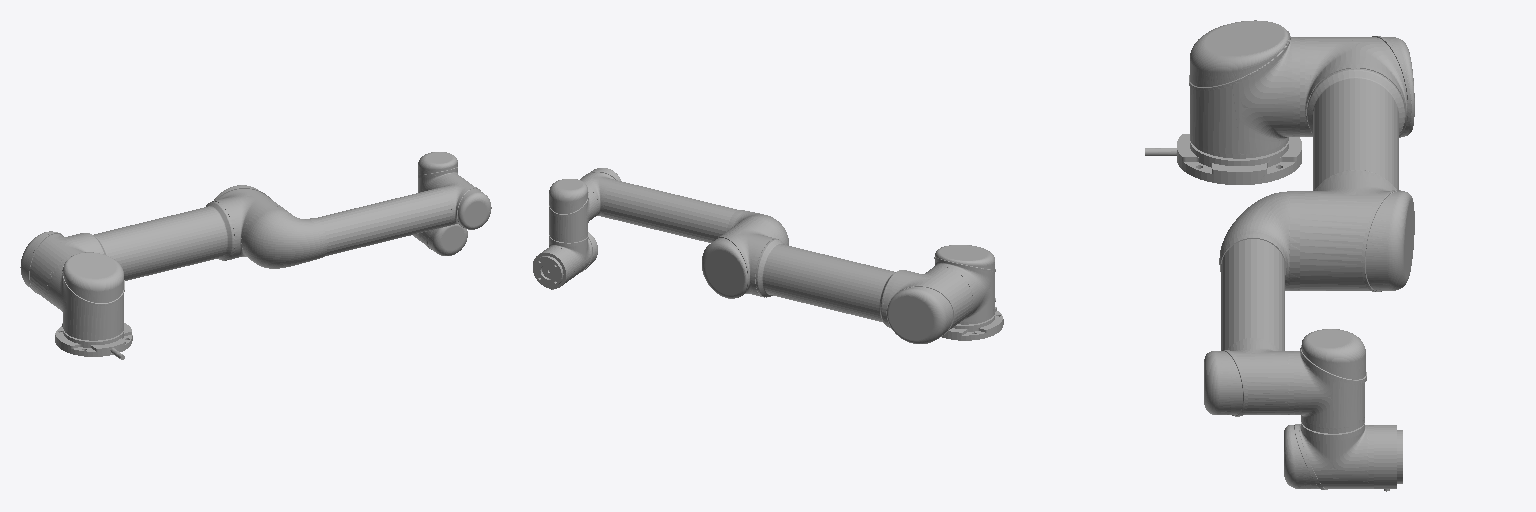
robot.urdf — ur5:
<?xml version="1.0" ?>
<!-- =================================================================================== -->
<!-- |    This document was autogenerated by xacro from [local-path]\Anaconda3\envs\urdf_analyzer\Lib\site-packages\rtbdata\xacro\ur_description\urdf\ur5_joint_limited_robot.urdf.xacro | -->
<!-- |    EDITING THIS FILE BY HAND IS NOT RECOMMENDED                                 | -->
<!-- =================================================================================== -->
<robot name="ur5">
  <!-- common stuff -->
  <!-- <xacro:include filename="$(find ur_description)/urdf/common.gazebo.xacro" /> -->
  <!-- measured from model -->
  <!--property name="shoulder_height" value="0.089159" /-->
  <!--property name="shoulder_offset" value="0.13585" /-->
  <!-- shoulder_offset - elbow_offset + wrist_1_length = 0.10915 -->
  <!--property name="upper_arm_length" value="0.42500" /-->
  <!--property name="elbow_offset" value="0.1197" /-->
  <!-- CAD measured -->
  <!--property name="forearm_length" value="0.39225" /-->
  <!--property name="wrist_1_length" value="0.093" /-->
  <!-- CAD measured -->
  <!--property name="wrist_2_length" value="0.09465" /-->
  <!-- In CAD this distance is 0.930, but in the spec it is 0.09465 -->
  <!--property name="wrist_3_length" value="0.0823" /-->
  <!-- manually measured -->
  <link name="base_link">
    <visual>
      <geometry>
        <mesh filename="package://ur_description/meshes/ur5/visual/base.dae"/>
      </geometry>
      <material name="LightGrey">
        <color rgba="0.7 0.7 0.7 1.0"/>
      </material>
    </visual>
    <collision>
      <geometry>
        <mesh filename="package://ur_description/meshes/ur5/collision/base.stl"/>
      </geometry>
    </collision>
    <inertial>
      <mass value="4.0"/>
      <origin rpy="0 0 0" xyz="0.0 0.0 0.0"/>
      <inertia ixx="0.00443333156" ixy="0.0" ixz="0.0" iyy="0.00443333156" iyz="0.0" izz="0.0072"/>
    </inertial>
  </link>
  <joint name="shoulder_pan_joint" type="revolute">
    <parent link="base_link"/>
    <child link="shoulder_link"/>
    <origin rpy="0.0 0.0 0.0" xyz="0.0 0.0 0.089159"/>
    <axis xyz="0 0 1"/>
    <limit effort="150.0" lower="-3.141592653589793" upper="3.141592653589793" velocity="3.15"/>
    <dynamics damping="0.0" friction="0.0"/>
  </joint>
  <link name="shoulder_link">
    <visual>
      <geometry>
        <mesh filename="package://ur_description/meshes/ur5/visual/shoulder.dae"/>
      </geometry>
      <material name="LightGrey">
        <color rgba="0.7 0.7 0.7 1.0"/>
      </material>
    </visual>
    <collision>
      <geometry>
        <mesh filename="package://ur_description/meshes/ur5/collision/shoulder.stl"/>
      </geometry>
    </collision>
    <inertial>
      <mass value="3.7"/>
      <origin rpy="0 0 0" xyz="0.0 0.0 0.0"/>
      <inertia ixx="0.010267495893" ixy="0.0" ixz="0.0" iyy="0.010267495893" iyz="0.0" izz="0.00666"/>
    </inertial>
  </link>
  <joint name="shoulder_lift_joint" type="revolute">
    <parent link="shoulder_link"/>
    <child link="upper_arm_link"/>
    <origin rpy="0.0 1.5707963267948966 0.0" xyz="0.0 0.13585 0.0"/>
    <axis xyz="0 1 0"/>
    <limit effort="150.0" lower="-3.141592653589793" upper="3.141592653589793" velocity="3.15"/>
    <dynamics damping="0.0" friction="0.0"/>
  </joint>
  <link name="upper_arm_link">
    <visual>
      <geometry>
        <mesh filename="package://ur_description/meshes/ur5/visual/upperarm.dae"/>
      </geometry>
      <material name="LightGrey">
        <color rgba="0.7 0.7 0.7 1.0"/>
      </material>
    </visual>
    <collision>
      <geometry>
        <mesh filename="package://ur_description/meshes/ur5/collision/upperarm.stl"/>
      </geometry>
    </collision>
    <inertial>
      <mass value="8.393"/>
      <origin rpy="0 0 0" xyz="0.0 0.0 0.28"/>
      <inertia ixx="0.22689067591036005" ixy="0.0" ixz="0.0" iyy="0.22689067591036005" iyz="0.0" izz="0.0151074"/>
    </inertial>
  </link>
  <joint name="elbow_joint" type="revolute">
    <parent link="upper_arm_link"/>
    <child link="forearm_link"/>
    <origin rpy="0.0 0.0 0.0" xyz="0.0 -0.1197 0.425"/>
    <axis xyz="0 1 0"/>
    <limit effort="150.0" lower="-3.141592653589793" upper="3.141592653589793" velocity="3.15"/>
    <dynamics damping="0.0" friction="0.0"/>
  </joint>
  <link name="forearm_link">
    <visual>
      <geometry>
        <mesh filename="package://ur_description/meshes/ur5/visual/forearm.dae"/>
      </geometry>
      <material name="LightGrey">
        <color rgba="0.7 0.7 0.7 1.0"/>
      </material>
    </visual>
    <collision>
      <geometry>
        <mesh filename="package://ur_description/meshes/ur5/collision/forearm.stl"/>
      </geometry>
    </collision>
    <inertial>
      <mass value="2.275"/>
      <origin rpy="0 0 0" xyz="0.0 0.0 0.196125"/>
      <inertia ixx="0.03121679102890359" ixy="0.0" ixz="0.0" iyy="0.03121679102890359" iyz="0.0" izz="0.004095"/>
    </inertial>
  </link>
  <joint name="wrist_1_joint" type="revolute">
    <parent link="forearm_link"/>
    <child link="wrist_1_link"/>
    <origin rpy="0.0 1.5707963267948966 0.0" xyz="0.0 0.0 0.39225"/>
    <axis xyz="0 1 0"/>
    <limit effort="28.0" lower="-3.141592653589793" upper="3.141592653589793" velocity="3.2"/>
    <dynamics damping="0.0" friction="0.0"/>
  </joint>
  <link name="wrist_1_link">
    <visual>
      <geometry>
        <mesh filename="package://ur_description/meshes/ur5/visual/wrist1.dae"/>
      </geometry>
      <material name="LightGrey">
        <color rgba="0.7 0.7 0.7 1.0"/>
      </material>
    </visual>
    <collision>
      <geometry>
        <mesh filename="package://ur_description/meshes/ur5/collision/wrist1.stl"/>
      </geometry>
    </collision>
    <inertial>
      <mass value="1.219"/>
      <origin rpy="0 0 0" xyz="0.0 0.093 0.0"/>
      <inertia ixx="0.0025598989760400002" ixy="0.0" ixz="0.0" iyy="0.0025598989760400002" iyz="0.0" izz="0.0021942"/>
    </inertial>
  </link>
  <joint name="wrist_2_joint" type="revolute">
    <parent link="wrist_1_link"/>
    <child link="wrist_2_link"/>
    <origin rpy="0.0 0.0 0.0" xyz="0.0 0.093 0.0"/>
    <axis xyz="0 0 1"/>
    <limit effort="28.0" lower="-3.141592653589793" upper="3.141592653589793" velocity="3.2"/>
    <dynamics damping="0.0" friction="0.0"/>
  </joint>
  <link name="wrist_2_link">
    <visual>
      <geometry>
        <mesh filename="package://ur_description/meshes/ur5/visual/wrist2.dae"/>
      </geometry>
      <material name="LightGrey">
        <color rgba="0.7 0.7 0.7 1.0"/>
      </material>
    </visual>
    <collision>
      <geometry>
        <mesh filename="package://ur_description/meshes/ur5/collision/wrist2.stl"/>
      </geometry>
    </collision>
    <inertial>
      <mass value="1.219"/>
      <origin rpy="0 0 0" xyz="0.0 0.0 0.09465"/>
      <inertia ixx="0.0025598989760400002" ixy="0.0" ixz="0.0" iyy="0.0025598989760400002" iyz="0.0" izz="0.0021942"/>
    </inertial>
  </link>
  <joint name="wrist_3_joint" type="revolute">
    <parent link="wrist_2_link"/>
    <child link="wrist_3_link"/>
    <origin rpy="0.0 0.0 0.0" xyz="0.0 0.0 0.09465"/>
    <axis xyz="0 1 0"/>
    <limit effort="28.0" lower="-3.141592653589793" upper="3.141592653589793" velocity="3.2"/>
    <dynamics damping="0.0" friction="0.0"/>
  </joint>
  <link name="wrist_3_link">
    <visual>
      <geometry>
        <mesh filename="package://ur_description/meshes/ur5/visual/wrist3.dae"/>
      </geometry>
      <material name="LightGrey">
        <color rgba="0.7 0.7 0.7 1.0"/>
      </material>
    </visual>
    <collision>
      <geometry>
        <mesh filename="package://ur_description/meshes/ur5/collision/wrist3.stl"/>
      </geometry>
    </collision>
    <inertial>
      <mass value="0.1879"/>
      <origin rpy="1.5707963267948966 0 0" xyz="0.0 0.06505 0.0"/>
      <inertia ixx="8.469589112163e-05" ixy="0.0" ixz="0.0" iyy="8.469589112163e-05" iyz="0.0" izz="0.0001321171875"/>
    </inertial>
  </link>
  <joint name="ee_fixed_joint" type="fixed">
    <parent link="wrist_3_link"/>
    <child link="ee_link"/>
    <origin rpy="0.0 0.0 1.5707963267948966" xyz="0.0 0.0823 0.0"/>
    <!-- <origin xyz="0 0 0" rpy="0 0 0"/> -->
  </joint>
  <link name="ee_link">
    <collision>
      <geometry>
        <box size="0.01 0.01 0.01"/>
      </geometry>
      <origin rpy="0 0 0" xyz="-0.01 0 0"/>
    </collision>
  </link>
  <transmission name="shoulder_pan_trans">
    <type>transmission_interface/SimpleTransmission</type>
    <joint name="shoulder_pan_joint">
      <hardwareInterface>hardware_interface/PositionJointInterface</hardwareInterface>
    </joint>
    <actuator name="shoulder_pan_motor">
      <mechanicalReduction>1</mechanicalReduction>
    </actuator>
  </transmission>
  <transmission name="shoulder_lift_trans">
    <type>transmission_interface/SimpleTransmission</type>
    <joint name="shoulder_lift_joint">
      <hardwareInterface>hardware_interface/PositionJointInterface</hardwareInterface>
    </joint>
    <actuator name="shoulder_lift_motor">
      <mechanicalReduction>1</mechanicalReduction>
    </actuator>
  </transmission>
  <transmission name="elbow_trans">
    <type>transmission_interface/SimpleTransmission</type>
    <joint name="elbow_joint">
      <hardwareInterface>hardware_interface/PositionJointInterface</hardwareInterface>
    </joint>
    <actuator name="elbow_motor">
      <mechanicalReduction>1</mechanicalReduction>
    </actuator>
  </transmission>
  <transmission name="wrist_1_trans">
    <type>transmission_interface/SimpleTransmission</type>
    <joint name="wrist_1_joint">
      <hardwareInterface>hardware_interface/PositionJointInterface</hardwareInterface>
    </joint>
    <actuator name="wrist_1_motor">
      <mechanicalReduction>1</mechanicalReduction>
    </actuator>
  </transmission>
  <transmission name="wrist_2_trans">
    <type>transmission_interface/SimpleTransmission</type>
    <joint name="wrist_2_joint">
      <hardwareInterface>hardware_interface/PositionJointInterface</hardwareInterface>
    </joint>
    <actuator name="wrist_2_motor">
      <mechanicalReduction>1</mechanicalReduction>
    </actuator>
  </transmission>
  <transmission name="wrist_3_trans">
    <type>transmission_interface/SimpleTransmission</type>
    <joint name="wrist_3_joint">
      <hardwareInterface>hardware_interface/PositionJointInterface</hardwareInterface>
    </joint>
    <actuator name="wrist_3_motor">
      <mechanicalReduction>1</mechanicalReduction>
    </actuator>
  </transmission>
  <gazebo reference="shoulder_link">
    <selfCollide>true</selfCollide>
  </gazebo>
  <gazebo reference="upper_arm_link">
    <selfCollide>true</selfCollide>
  </gazebo>
  <gazebo reference="forearm_link">
    <selfCollide>true</selfCollide>
  </gazebo>
  <gazebo reference="wrist_1_link">
    <selfCollide>true</selfCollide>
  </gazebo>
  <gazebo reference="wrist_3_link">
    <selfCollide>true</selfCollide>
  </gazebo>
  <gazebo reference="wrist_2_link">
    <selfCollide>true</selfCollide>
  </gazebo>
  <gazebo reference="ee_link">
    <selfCollide>true</selfCollide>
  </gazebo>
  <!-- ROS base_link to UR 'Base' Coordinates transform -->
  <link name="base"/>
  <joint name="base_link-base_fixed_joint" type="fixed">
    <!-- NOTE: this rotation is only needed as long as base_link itself is
                 not corrected wrt the real robot (ie: rotated over 180
                 degrees)
      -->
    <origin rpy="0 0 -3.141592653589793" xyz="0 0 0"/>
    <parent link="base_link"/>
    <child link="base"/>
  </joint>
  <!-- Frame coincident with all-zeros TCP on UR controller -->
  <link name="tool0"/>
  <joint name="wrist_3_link-tool0_fixed_joint" type="fixed">
    <origin rpy="-1.5707963267948966 0 0" xyz="0 0.0823 0"/>
    <!-- <origin xyz="0 0 0" rpy="0 0 0"/> -->
    <parent link="wrist_3_link"/>
    <child link="tool0"/>
  </joint>
  <link name="world"/>
  <joint name="world_joint" type="fixed">
    <parent link="world"/>
    <child link="base_link"/>
    <origin rpy="0.0 0.0 0.0" xyz="0.0 0.0 0.0"/>
  </joint>
</robot>

--- Render facts (derived) ---
3 views of the same robot in one strip: view 1: azimuth 30°, elevation 25°; view 2: azimuth 150°, elevation 25°; view 3: azimuth 270°, elevation 25° (orthographic).
Model ur5 with 11 links and 10 joints (6 revolute, 4 fixed), rooted at world, posed all joints at 0.
Visible links, largest first — view 1: upper_arm_link, forearm_link, shoulder_link, base_link, wrist_1_link, wrist_2_link; view 2: upper_arm_link, forearm_link, shoulder_link, wrist_1_link, wrist_3_link, wrist_2_link, base_link; view 3: upper_arm_link, forearm_link, shoulder_link, wrist_1_link, wrist_2_link, base_link, wrist_3_link.
Boxes of the visible links, bbox=[...] form: upper_arm_link: bbox=[20, 185, 283, 305]; forearm_link: bbox=[243, 175, 491, 268]; shoulder_link: bbox=[49, 252, 124, 340]; base_link: bbox=[55, 323, 132, 359]; wrist_1_link: bbox=[418, 152, 458, 192]; wrist_2_link: bbox=[413, 224, 467, 255]; upper_arm_link: bbox=[702, 220, 972, 343]; forearm_link: bbox=[580, 168, 788, 245]; shoulder_link: bbox=[933, 245, 995, 324]; wrist_1_link: bbox=[549, 179, 597, 242]; wrist_3_link: bbox=[533, 248, 572, 289]; wrist_2_link: bbox=[547, 232, 597, 279]; base_link: bbox=[942, 298, 1003, 340]; upper_arm_link: bbox=[1300, 36, 1414, 291]; forearm_link: bbox=[1204, 191, 1299, 416]; shoulder_link: bbox=[1189, 20, 1299, 158]; wrist_1_link: bbox=[1294, 329, 1366, 433]; wrist_2_link: bbox=[1284, 422, 1373, 489]; base_link: bbox=[1145, 134, 1301, 184]; wrist_3_link: bbox=[1374, 425, 1402, 491].
Size in the robot's own frame: 0.9295 by 0.3144 by 0.2062 metres.
Meshes: 7 distinct files referenced, 7 mesh visuals loaded (7 Collada DAE).